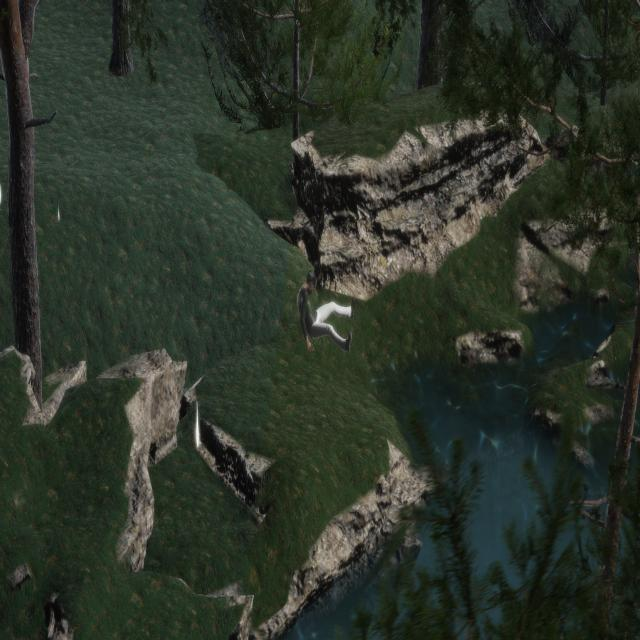Human: (292, 259, 361, 362)
